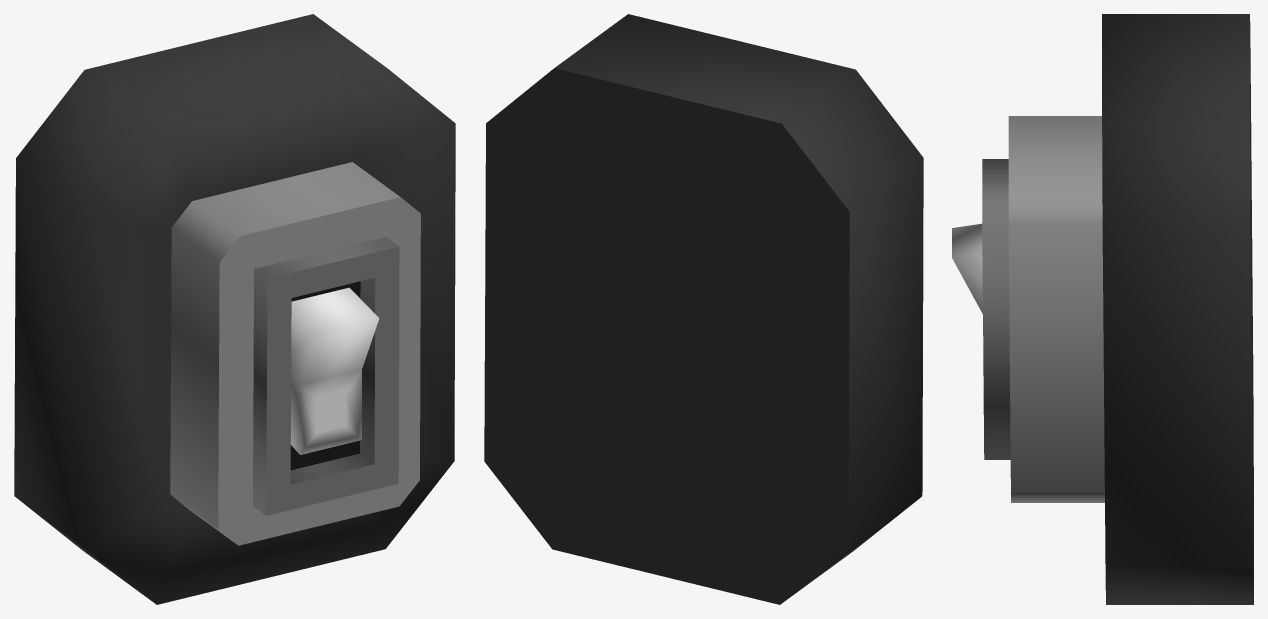
File: LightSwitch.fbx
The picture shows the model from 3 angles, left to right: view 1: azimuth 30°, elevation 25°; view 2: azimuth 150°, elevation 25°; view 3: azimuth 270°, elevation 25°; orthographic projection.
Visible parts, largest first — view 1: LightSwitch; view 2: LightSwitch; view 3: LightSwitch.
Part boxes in pixels (bbox=[...]): LightSwitch: bbox=[14, 14, 455, 604]; LightSwitch: bbox=[484, 14, 923, 604]; LightSwitch: bbox=[952, 14, 1253, 604].
Size of the model in its own units: 0.2341 by 0.2947 by 0.168.
